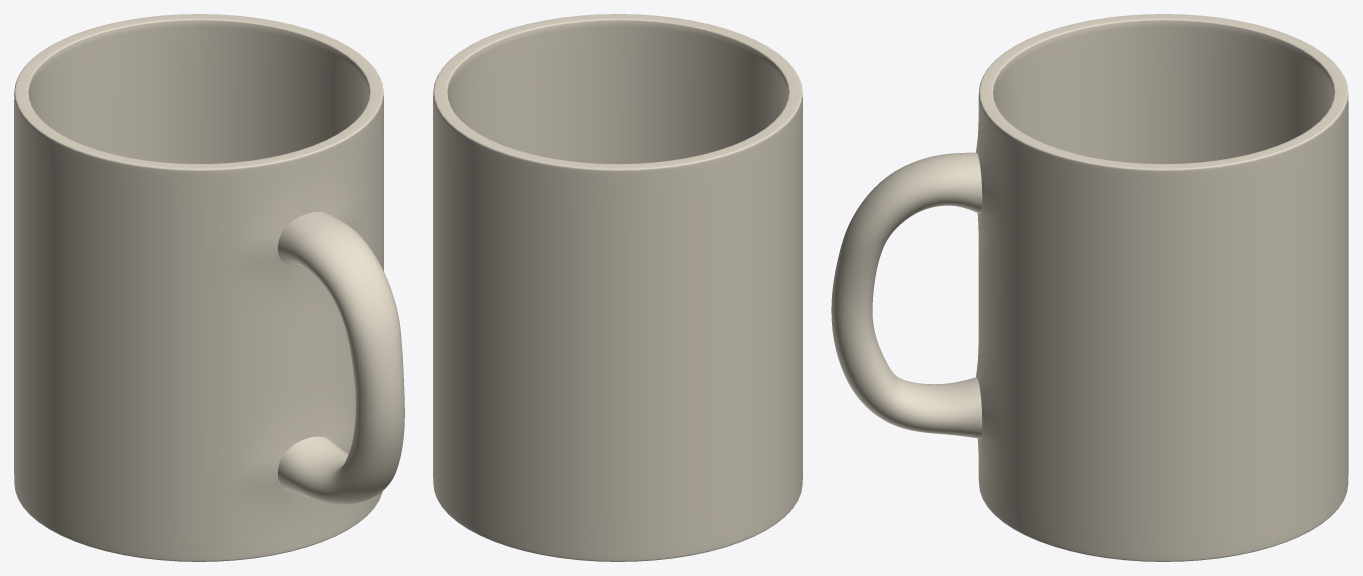
The model's file is pint.fbx.
The picture shows the model from 3 angles, left to right: view 1: azimuth 30°, elevation 25°; view 2: azimuth 150°, elevation 25°; view 3: azimuth 270°, elevation 25°; orthographic projection.
Visible parts, largest first — view 1: pint; view 2: pint; view 3: pint.
Boxes of the visible parts, x1,y1,x2,y2 form: pint: (14, 14, 404, 561); pint: (433, 14, 802, 561); pint: (831, 14, 1348, 561).
Size of the model in its own units: 53.59 by 62.87 by 74.93.
